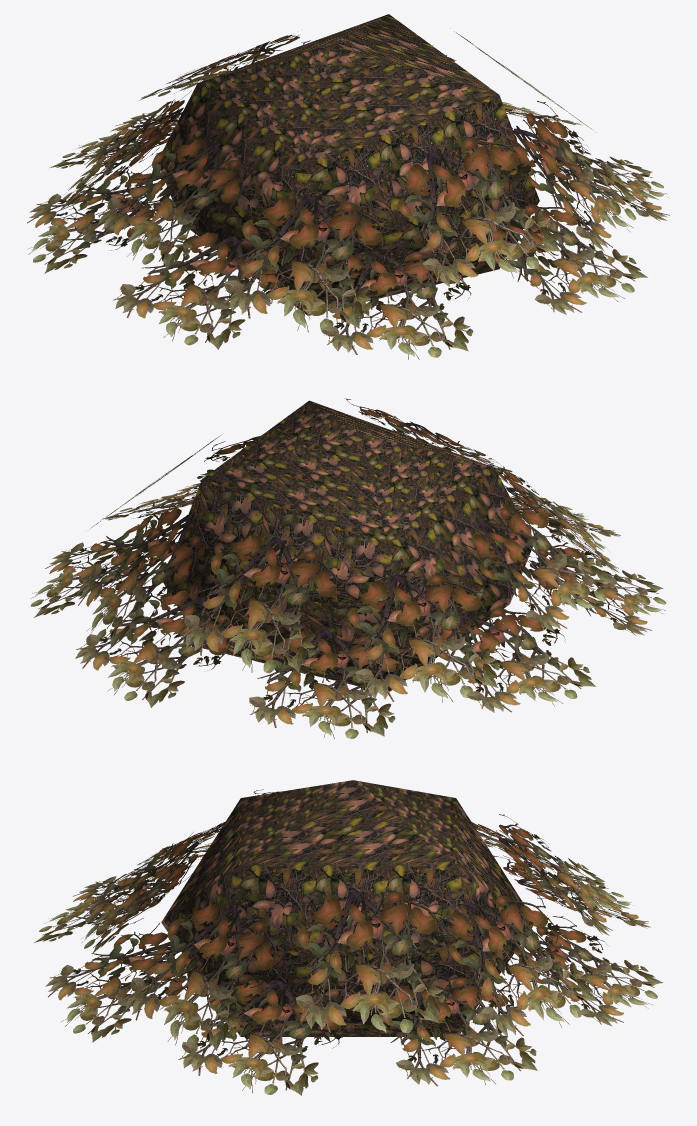
Rendered from poi_all_lair_leaf_small_l3.fbx.
The picture shows the model from 3 angles, top to bottom: view 1: azimuth 30°, elevation 25°; view 2: azimuth 150°, elevation 25°; view 3: azimuth 270°, elevation 25°; orthographic projection. The views are drawn at different scales.
Parts seen in each view (by area): view 1: mesh_node; view 2: mesh_node; view 3: mesh_node.
Part boxes in pixels (x1,y1,x2,y2): mesh_node: (27, 14, 669, 359); mesh_node: (30, 398, 666, 738); mesh_node: (34, 780, 663, 1095).
Size of the model in its own units: 3.2 by 1.08 by 3.2.
Materials: 2 (2 with a texture image).
